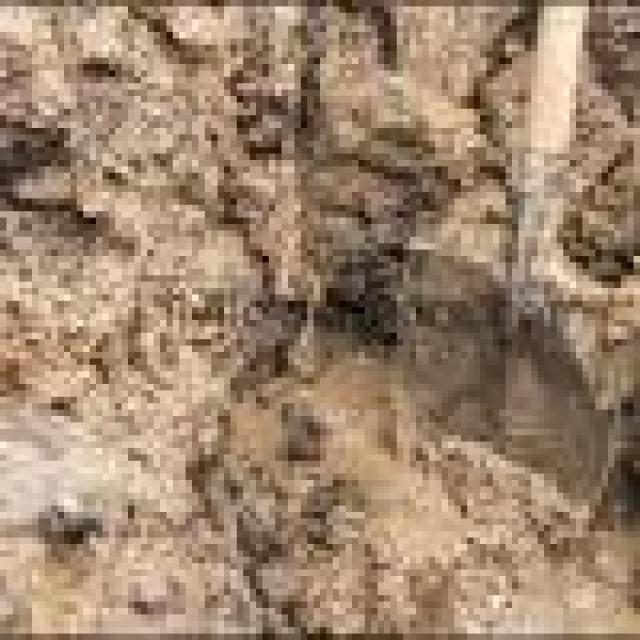Clay Soil: (112, 80, 432, 587)
